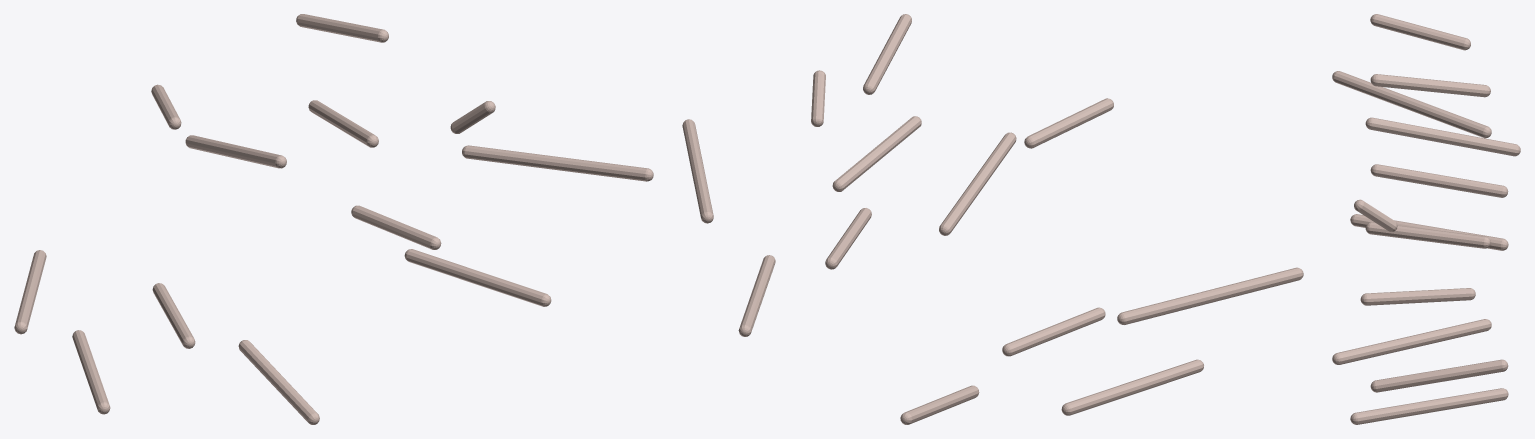
File: adhesions.glb
The picture shows the model from 3 angles, left to right: view 1: azimuth 30°, elevation 25°; view 2: azimuth 150°, elevation 25°; view 3: azimuth 270°, elevation 25°; orthographic projection. The views are drawn at different scales.
Parts seen in each view (by area): view 1: adhesions; view 2: adhesions; view 3: adhesions.
Boxes of the visible parts, x1,y1,x2,y2 form: adhesions: (14, 14, 653, 424); adhesions: (682, 14, 1303, 424); adhesions: (1332, 14, 1520, 424).
Size of the model in its own units: 0.2721 by 0.154 by 0.0755.
